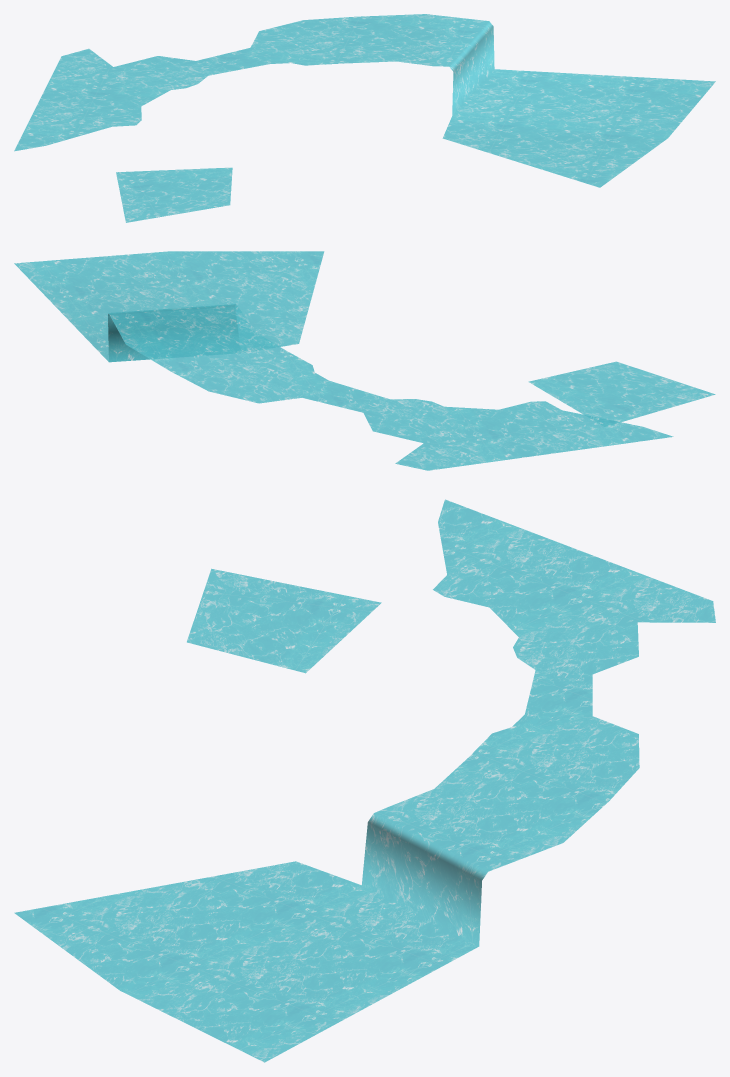
The model's file is xsz_shui_1.FBX.
3 renders of one model, top to bottom at view 1: azimuth 30°, elevation 25°; view 2: azimuth 150°, elevation 25°; view 3: azimuth 270°, elevation 25°, orthographic. The views are drawn at different scales.
Visible parts, largest first — view 1: xsz_shui_1; view 2: xsz_shui_1; view 3: xsz_shui_1.
Boxes of the visible parts, x1,y1,x2,y2 form: xsz_shui_1: (14, 14, 715, 222); xsz_shui_1: (14, 251, 715, 470); xsz_shui_1: (14, 499, 715, 1062).
Bounding box in the file's own units: 10166 × 702 × 6124.
